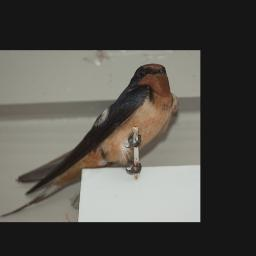Swallow: (0, 63, 173, 214)
